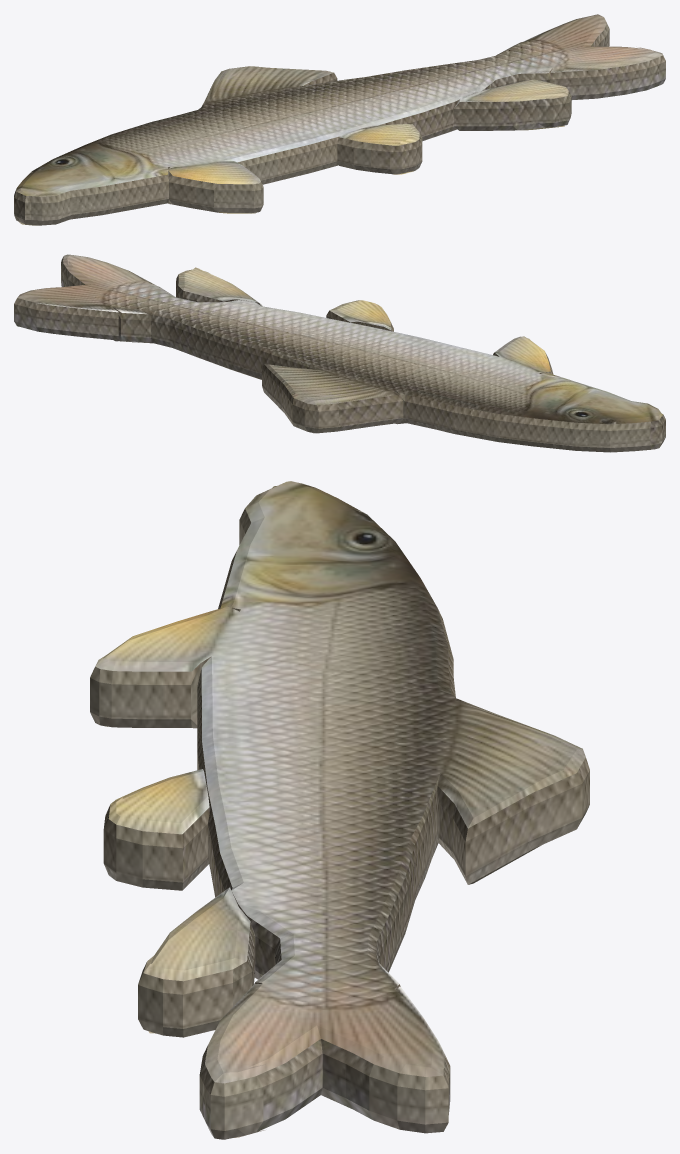
The picture shows the model from 3 angles, top to bottom: view 1: azimuth 30°, elevation 25°; view 2: azimuth 150°, elevation 25°; view 3: azimuth 270°, elevation 25°; orthographic projection. The views are drawn at different scales.
Visible parts, largest first — view 1: Fish BODY; view 2: Fish BODY; view 3: Fish BODY.
Boxes of the visible parts, left/top/right/bottom form: Fish BODY: left=14, top=14, right=665, bottom=225; Fish BODY: left=14, top=254, right=665, bottom=452; Fish BODY: left=90, top=481, right=589, bottom=1139.
Bounding box in the file's own units: 491 × 24.79 × 172.
Materials: 1 (1 with a texture image).
